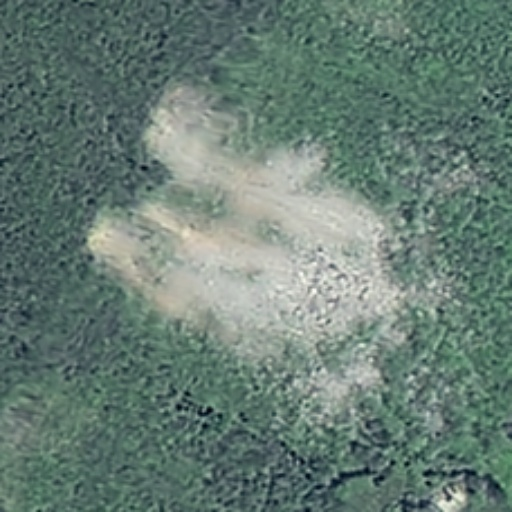landslide: (98, 93, 411, 348)
